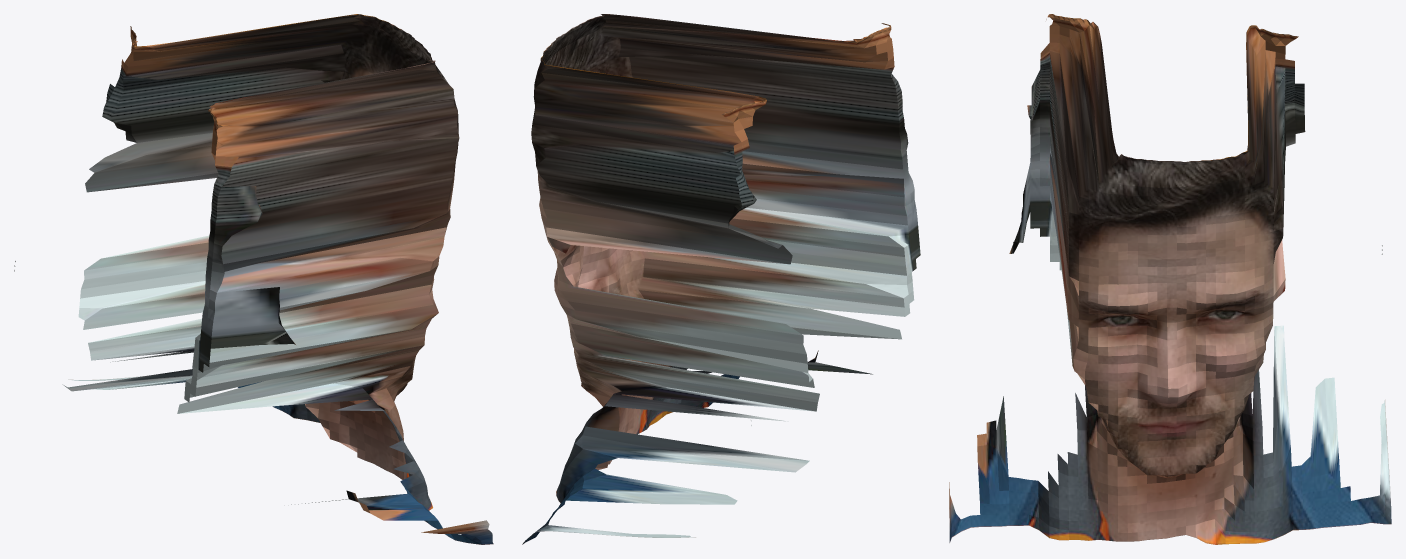
The model's file is faceSmall.glb.
3 views of the same model, side by side, from view 1: azimuth 30°, elevation 25°; view 2: azimuth 150°, elevation 25°; view 3: azimuth 270°, elevation 25° (orthographic). The views are drawn at different scales.
Parts seen in each view (by area): view 1: Plane; view 2: Plane; view 3: Plane.
Boxes of the visible parts, bbox=[...] form: Plane: bbox=[14, 14, 493, 544]; Plane: bbox=[522, 14, 920, 544]; Plane: bbox=[949, 14, 1391, 544].
Size of the model in its own units: 1.66 by 2.26 by 2.14.
Materials: 1 (1 with a texture image).
